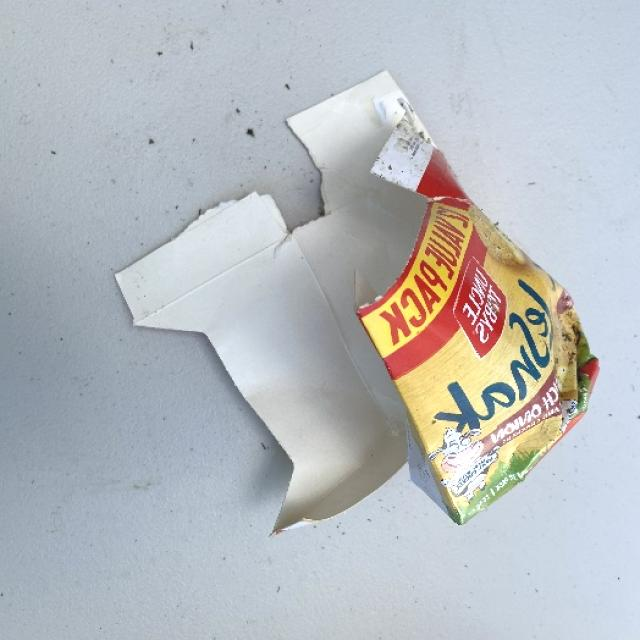kertas: (109, 70, 601, 540)
